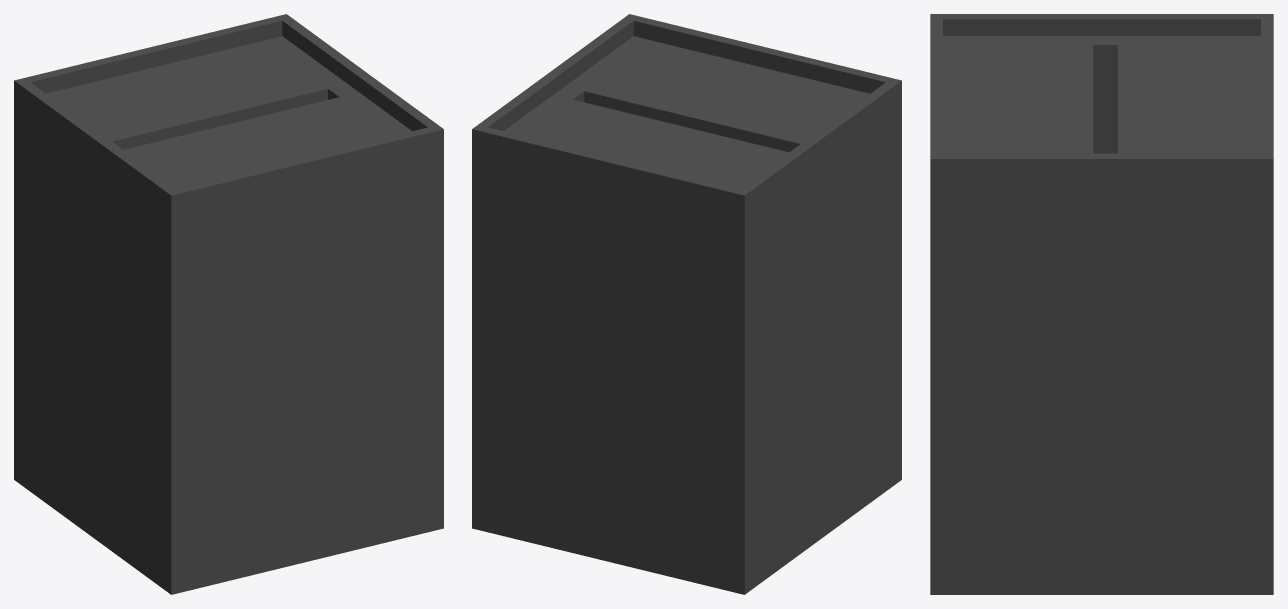
The model's file is TicketBox.glb.
3 views of the same model, side by side, from view 1: azimuth 30°, elevation 25°; view 2: azimuth 150°, elevation 25°; view 3: azimuth 270°, elevation 25° (orthographic). The views are drawn at different scales.
Parts seen in each view (by area): view 1: Cube; view 2: Cube; view 3: Cube.
Part boxes in pixels (<box>): Cube: <box>14,14,443,594</box>; Cube: <box>472,14,901,594</box>; Cube: <box>930,14,1273,594</box>.
Bounding box in the file's own units: 2 × 2.8 × 2.
Materials: 1 (1 with a texture image).
